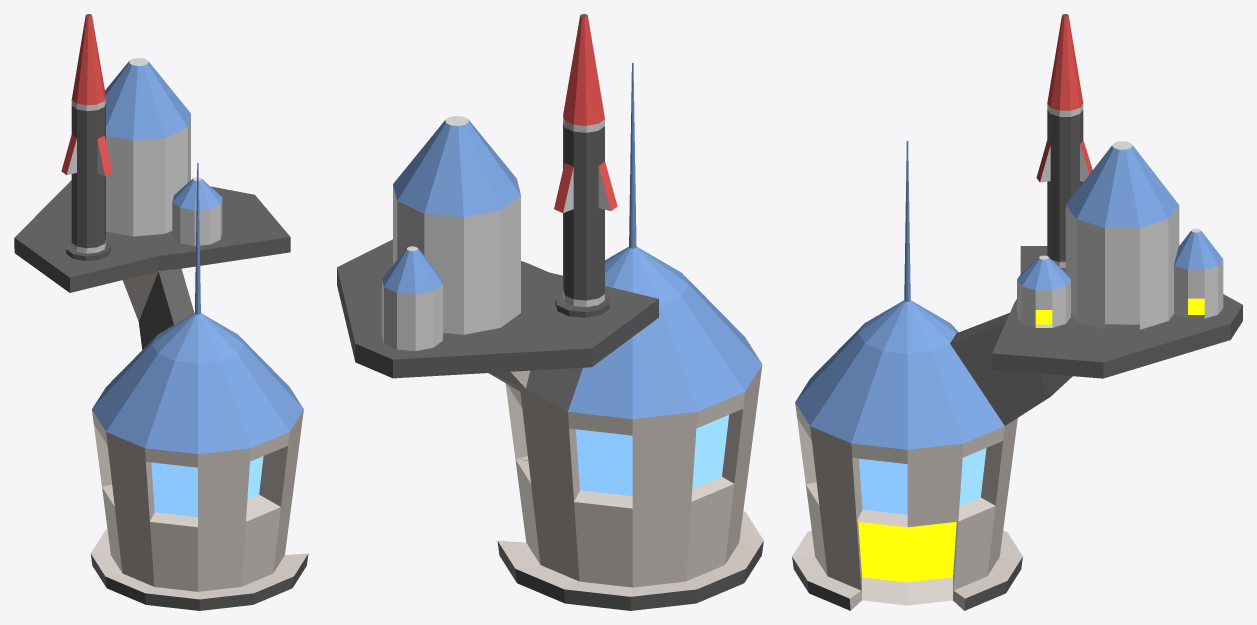
File: Space house.fbx
3 renders of one model, left to right at view 1: azimuth 30°, elevation 25°; view 2: azimuth 150°, elevation 25°; view 3: azimuth 270°, elevation 25°, orthographic. The views are drawn at different scales.
Visible parts, largest first — view 1: Space House; view 2: Space House; view 3: Space House.
Part boxes in pixels (x1=…): Space House: x1=14, y1=14, x2=308, y2=610; Space House: x1=337, y1=14, x2=763, y2=610; Space House: x1=792, y1=14, x2=1242, y2=610.
Bounding box in the file's own units: 326 × 649 × 496.
